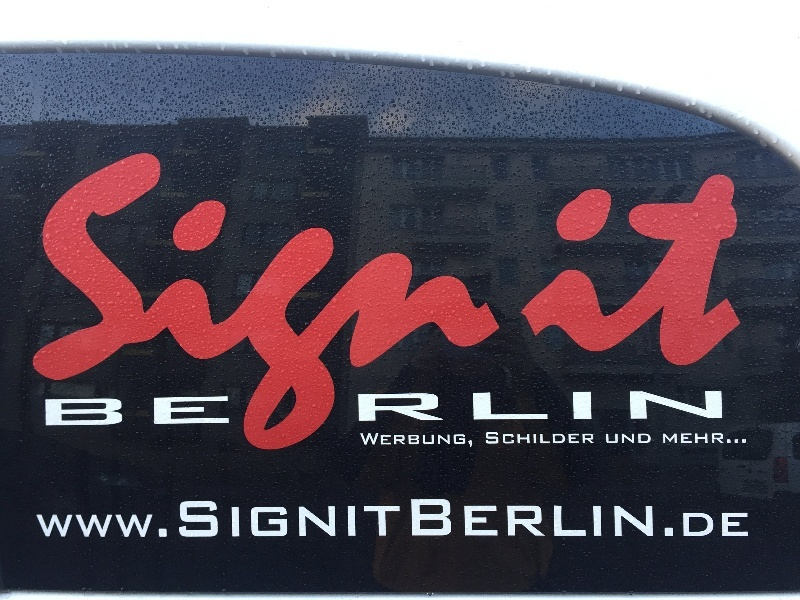text: (33, 140, 48, 460), (49, 140, 64, 460), (65, 140, 80, 460), (81, 140, 96, 460), (97, 140, 112, 460), (113, 140, 128, 460), (129, 140, 144, 460), (145, 140, 160, 460), (161, 140, 176, 460), (177, 140, 192, 460), (193, 140, 208, 460), (209, 140, 224, 460), (225, 140, 240, 460), (241, 140, 256, 460), (257, 140, 272, 460), (273, 140, 288, 460), (289, 140, 304, 460), (305, 140, 320, 460), (321, 140, 336, 460), (337, 140, 352, 460), (353, 140, 368, 460), (369, 140, 384, 460), (385, 140, 400, 460), (401, 140, 416, 460), (417, 140, 432, 460), (433, 140, 448, 460), (449, 140, 464, 460), (465, 140, 480, 460), (481, 140, 496, 460), (497, 140, 510, 460), (529, 166, 544, 375), (545, 166, 560, 375), (561, 166, 576, 375), (577, 166, 592, 375), (593, 166, 608, 375), (609, 166, 624, 375), (625, 166, 640, 375), (641, 166, 656, 375), (657, 166, 672, 375), (673, 166, 688, 375), (689, 166, 704, 375), (705, 166, 720, 375), (721, 166, 736, 375), (519, 166, 528, 375), (737, 166, 744, 375), (33, 497, 48, 540), (49, 497, 64, 540), (65, 497, 80, 540), (81, 497, 96, 540), (97, 497, 112, 540), (113, 497, 128, 540), (129, 497, 144, 540), (145, 497, 160, 540), (161, 497, 176, 540), (177, 497, 192, 540), (193, 497, 208, 540), (209, 497, 224, 540), (225, 497, 240, 540), (241, 497, 256, 540), (257, 497, 272, 540), (273, 497, 288, 540), (289, 497, 304, 540), (305, 497, 320, 540), (321, 497, 336, 540), (337, 497, 352, 540), (353, 497, 368, 540), (369, 497, 384, 540), (385, 497, 400, 540), (401, 497, 416, 540), (417, 497, 432, 540), (433, 497, 448, 540), (449, 497, 464, 540), (465, 497, 480, 540), (481, 497, 496, 540), (497, 497, 512, 540), (513, 497, 528, 540), (529, 497, 544, 540), (545, 497, 560, 540), (561, 497, 576, 540), (577, 497, 592, 540), (593, 497, 608, 540), (609, 497, 624, 540), (625, 497, 640, 540), (641, 497, 656, 540), (657, 497, 672, 540), (673, 497, 688, 540), (689, 497, 704, 540), (705, 497, 720, 540), (721, 497, 736, 540), (737, 497, 750, 540), (369, 390, 384, 422), (385, 390, 400, 422), (401, 390, 416, 422), (417, 390, 432, 422), (433, 390, 448, 422), (449, 390, 464, 422), (465, 390, 480, 422), (481, 390, 496, 422), (497, 390, 512, 422), (513, 390, 528, 422), (529, 390, 544, 422), (545, 390, 560, 422), (561, 390, 576, 422), (577, 390, 592, 422), (593, 390, 608, 422), (609, 390, 624, 422), (625, 390, 640, 422), (641, 390, 656, 422), (657, 390, 672, 422), (673, 390, 688, 422), (689, 390, 704, 422), (705, 390, 720, 422), (49, 397, 64, 428), (65, 397, 80, 428), (81, 397, 96, 428), (97, 397, 112, 428), (113, 397, 128, 428), (129, 397, 144, 428), (145, 397, 160, 428), (161, 397, 176, 428), (177, 397, 192, 428), (193, 397, 208, 428), (209, 397, 224, 428), (358, 390, 368, 422), (673, 430, 688, 447), (689, 430, 704, 447), (705, 430, 720, 447), (721, 430, 736, 447), (369, 433, 384, 449), (385, 433, 400, 449), (401, 433, 416, 449), (417, 433, 432, 449), (433, 433, 448, 449), (449, 433, 464, 449), (497, 431, 512, 447), (513, 431, 528, 447), (529, 431, 544, 447), (545, 431, 560, 447), (561, 431, 576, 447), (577, 431, 592, 447), (737, 430, 749, 447), (225, 397, 231, 428), (609, 433, 624, 445), (625, 433, 640, 445), (485, 431, 496, 447), (663, 430, 672, 447), (359, 433, 368, 449), (465, 433, 474, 449), (641, 433, 652, 445), (45, 397, 48, 428), (30, 497, 32, 540), (721, 390, 723, 422), (593, 431, 597, 447), (606, 433, 608, 445)
